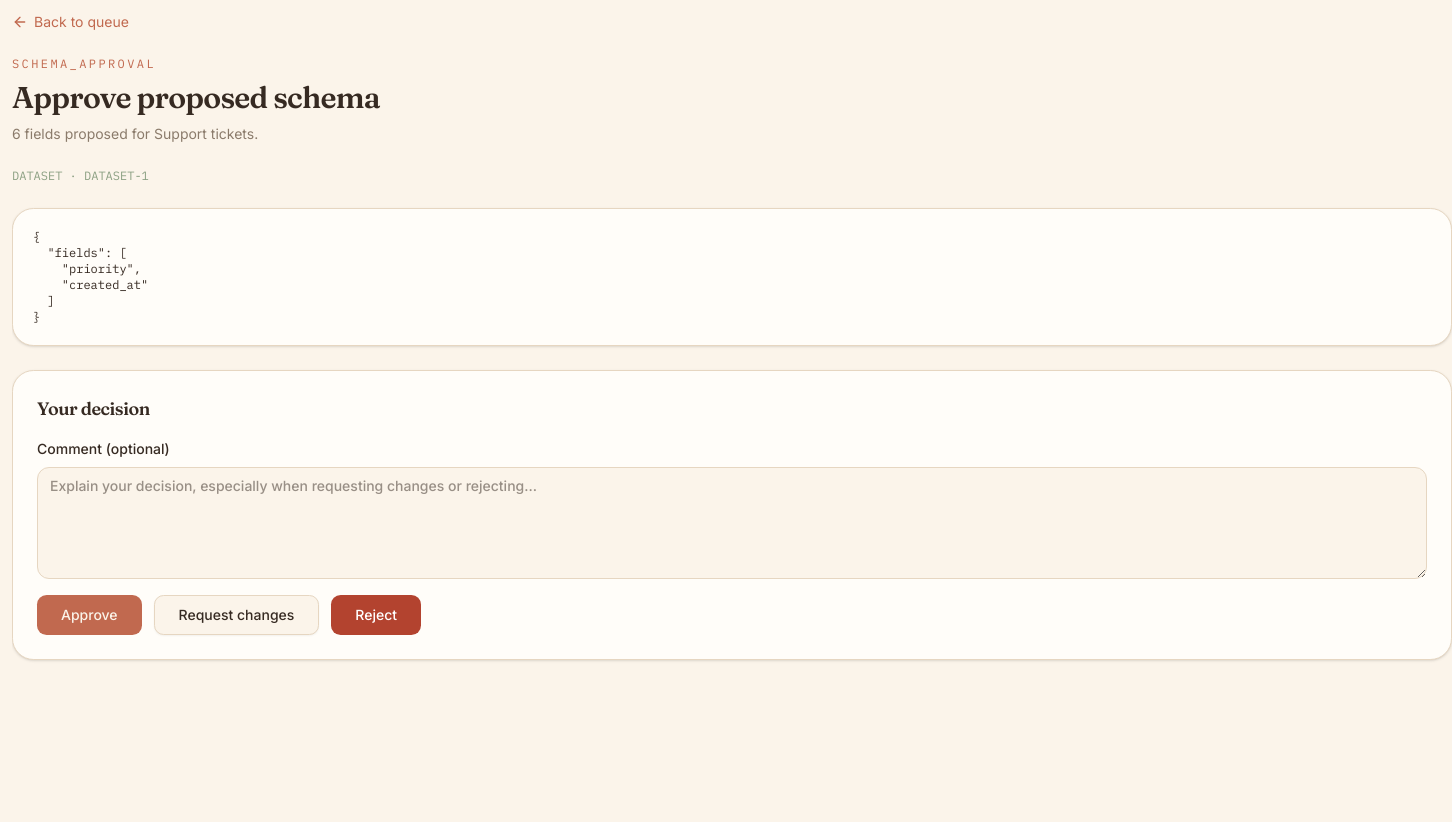
Scenario: review detail › surfaces an inline error if submitting the decision fails
This screenshot has width=1452, height=822.
Expected: the heading "Approve proposed schema" is shown, [12,80,380,116]
Click the button "Reject" at (376, 615), box [331,595,421,635]
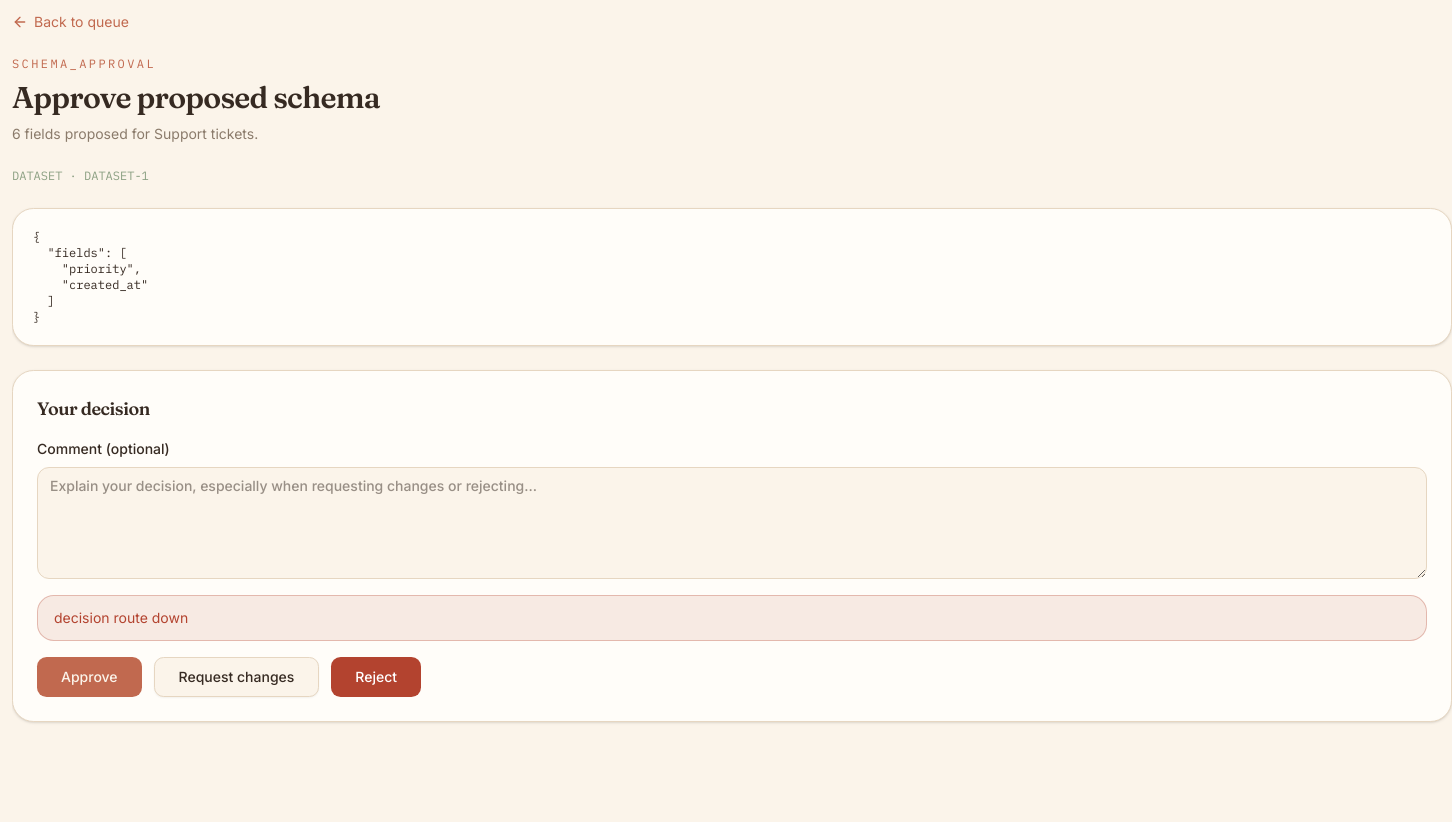
Now the text "decision route down" is shown, box [37,595,1427,641]
